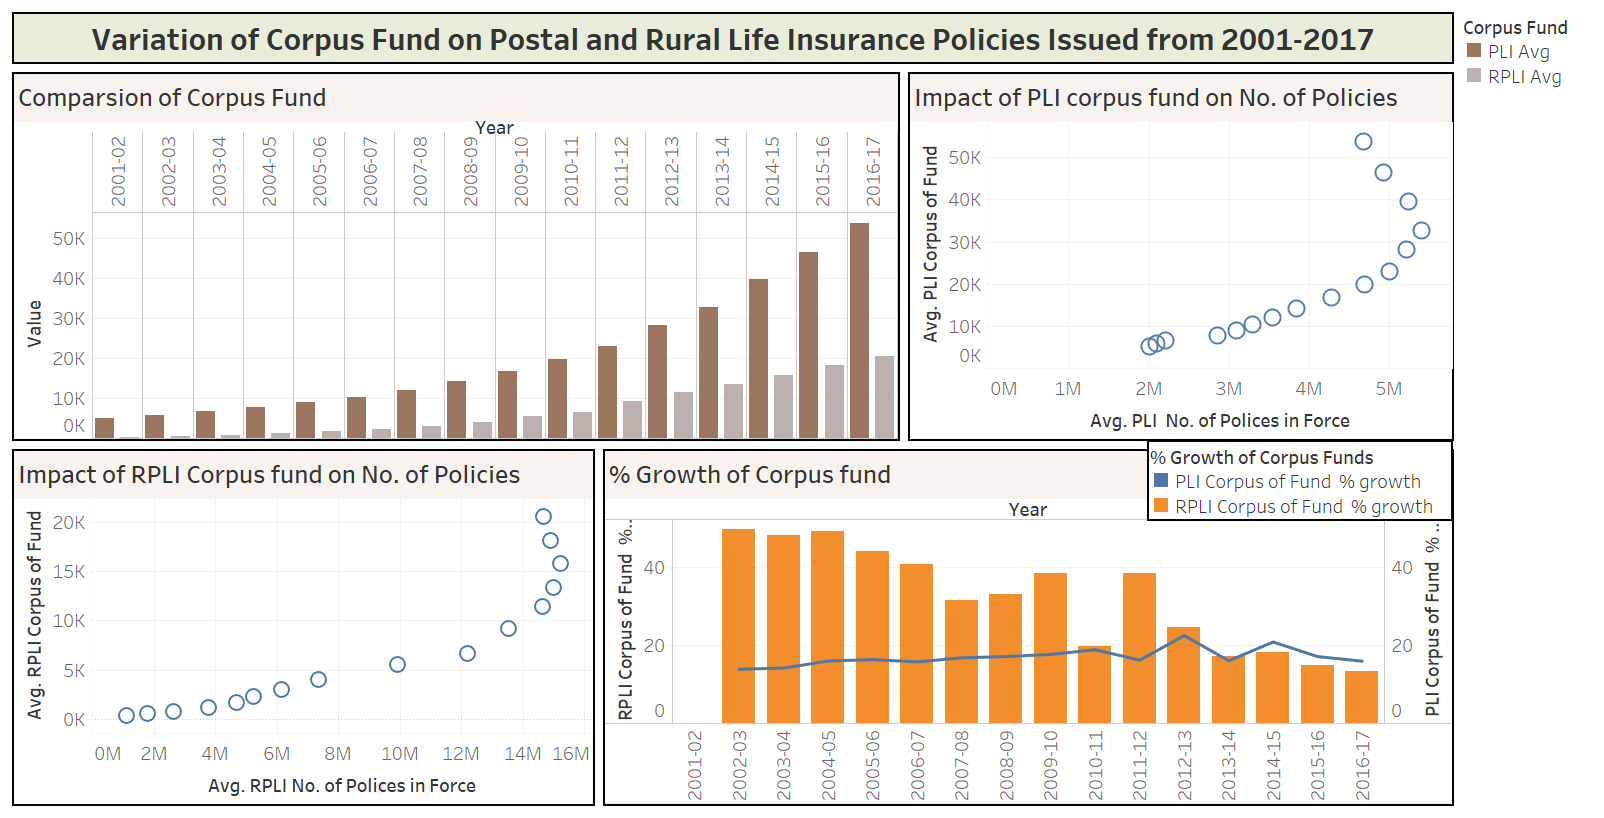

The dashboard page shown, as its layout file describes it:
{"tool":"tableau","page":{"name":"Dashboard 2","canvas":[1000,1000],"units":"permille","ordinal":1},"visuals":[{"type":"worksheet","box":[0,0,1000,1000]},{"type":"worksheet","param":"horz","box":[5,9.8,990,980.4]},{"type":"worksheet","param":"vert","box":[5,9.8,904,980.4]},{"type":"worksheet","box":[5,9.8,904,73.4]},{"type":"worksheet","param":"vert","box":[909,9.8,86,980.4]},{"type":"worksheet","title":"Comparsion of Corpus Fund","mark":"Automatic","cols":["Year"],"param":"[federated.0u4ut7b1go6u9114bb1d71qctsme].[:Measure Names]","box":[909,9.8,86,102.7]},{"type":"worksheet","box":[5,83.1,904,907.1]},{"type":"worksheet","title":"Comparsion of Corpus Fund","mark":"Automatic","cols":["Year"],"box":[5,83.1,558.3,460.9]},{"type":"worksheet","title":"Impact of PLI corpus fund on No. of Policies","mark":"Shape","rows":["Postal Life Insurance (PLI) - Corpus of Fund"],"cols":["Postal Life Insurance (PLI) - No. of Polices in Force"],"box":[563.3,83.1,345.7,460.9]},{"type":"worksheet","title":"% Growth of Corpus fund","mark":"Automatic","rows":["Rural Postal Life Insurance (RPLI) - Corpus of Fund -  % gro","Postal Life Insurance (PLI) - Corpus of Fund -  % growth"],"cols":["Year"],"param":"[federated.0u4ut7b1go6u9114bb1d71qctsme].[:Measure Names]","box":[715.1,537.9,190.8,99]},{"type":"worksheet","title":"Impact of RPLI Corpus fund on No. of Policies","mark":"Shape","rows":["Rural Postal Life Insurance (RPLI) - Corpus of Fund"],"cols":["Rural Postal Life Insurance (RPLI) - No. of Polices in Force"],"box":[5,544,368.6,446.2]},{"type":"worksheet","title":"% Growth of Corpus fund","mark":"Automatic","rows":["Rural Postal Life Insurance (RPLI) - Corpus of Fund -  % gro","Postal Life Insurance (PLI) - Corpus of Fund -  % growth"],"cols":["Year"],"box":[373.6,544,535.4,446.2]}]}

Visuals, with their boxes on the dashboard's canvas, which has no fixed pixel size, in thousandths of its width and height (x1, y1, x2, y2). These are canvas units, not pixel positions in the 1604x818 screenshot, which may show the page scaled, cropped or inside an application window:
worksheet: (left=0, top=0, right=1000, bottom=1000)
worksheet: (left=5, top=10, right=995, bottom=990)
worksheet: (left=5, top=10, right=909, bottom=990)
worksheet: (left=5, top=10, right=909, bottom=83)
worksheet: (left=909, top=10, right=995, bottom=990)
"Comparsion of Corpus Fund" worksheet: (left=909, top=10, right=995, bottom=112)
worksheet: (left=5, top=83, right=909, bottom=990)
"Comparsion of Corpus Fund" worksheet: (left=5, top=83, right=563, bottom=544)
"Impact of PLI corpus fund on No. of Policies" worksheet (Shape marks): (left=563, top=83, right=909, bottom=544)
"% Growth of Corpus fund" worksheet: (left=715, top=538, right=906, bottom=637)
"Impact of RPLI Corpus fund on No. of Policies" worksheet (Shape marks): (left=5, top=544, right=374, bottom=990)
"% Growth of Corpus fund" worksheet: (left=374, top=544, right=909, bottom=990)
